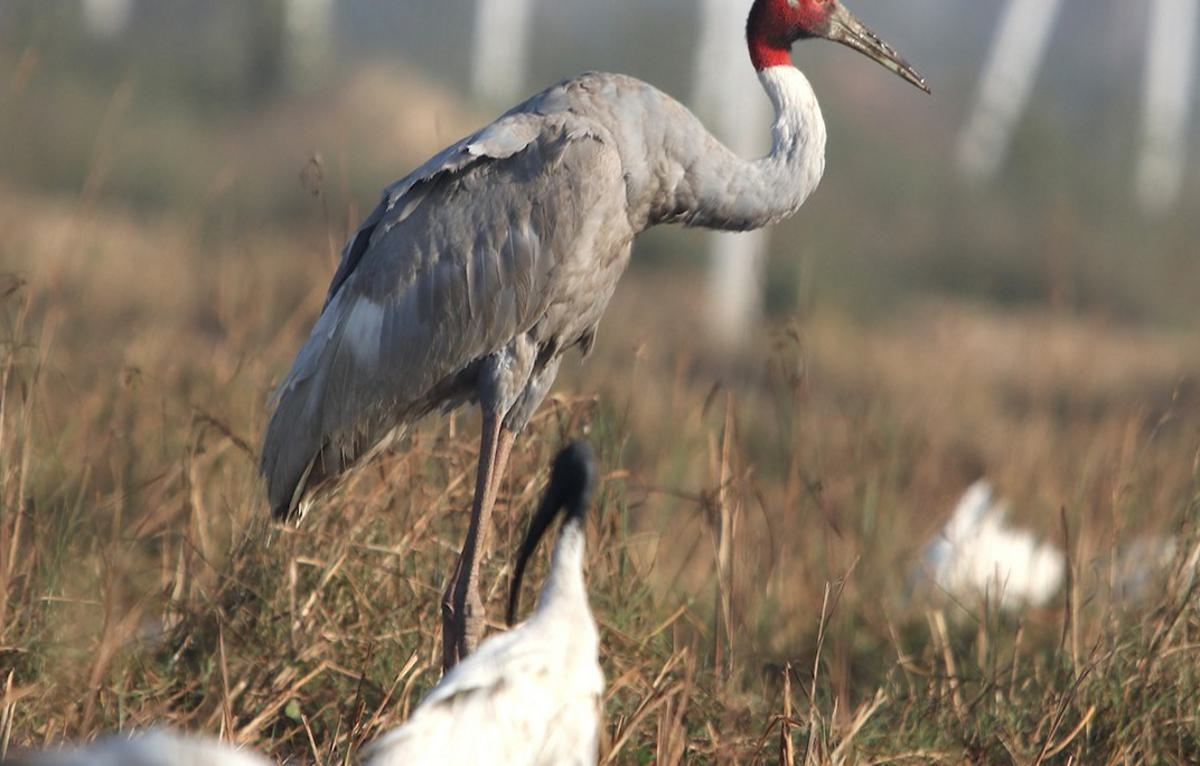crane: (257, 5, 946, 677)
